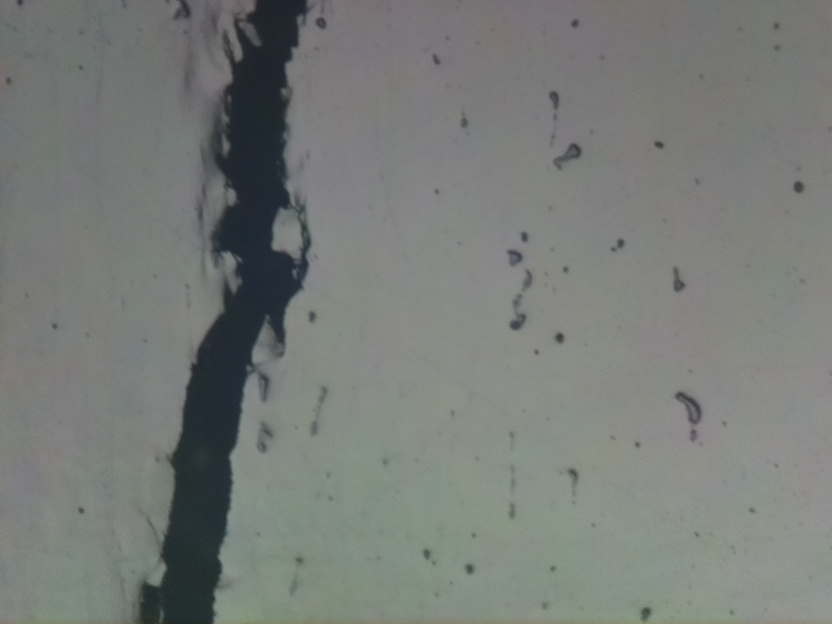crack: (138, 0, 310, 623)
